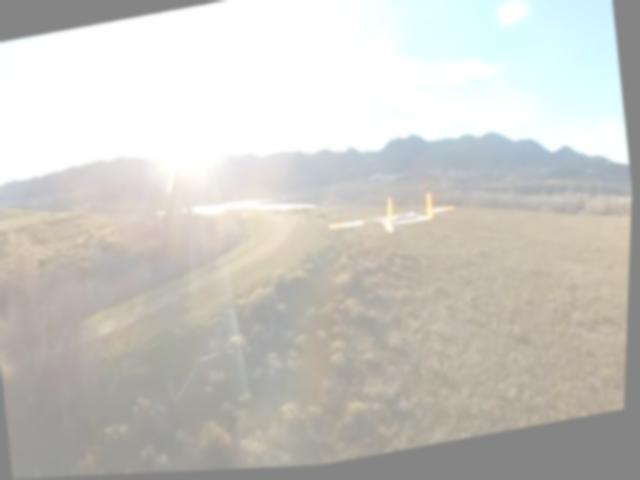uav: (326, 189, 462, 249)
